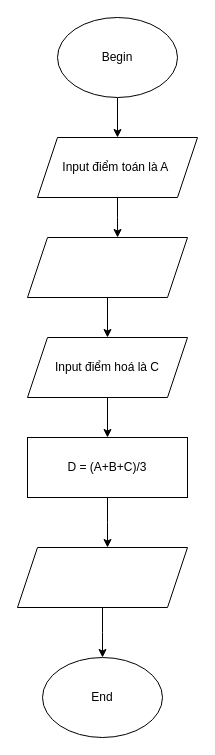
Some shapes in this 215 by 755 pixel diagram are drawn without their labels. Each missing label, with the centre of its shape:
"Display D" belongs at (102,577).
"Input điểm lý là B" belongs at (107,267).
